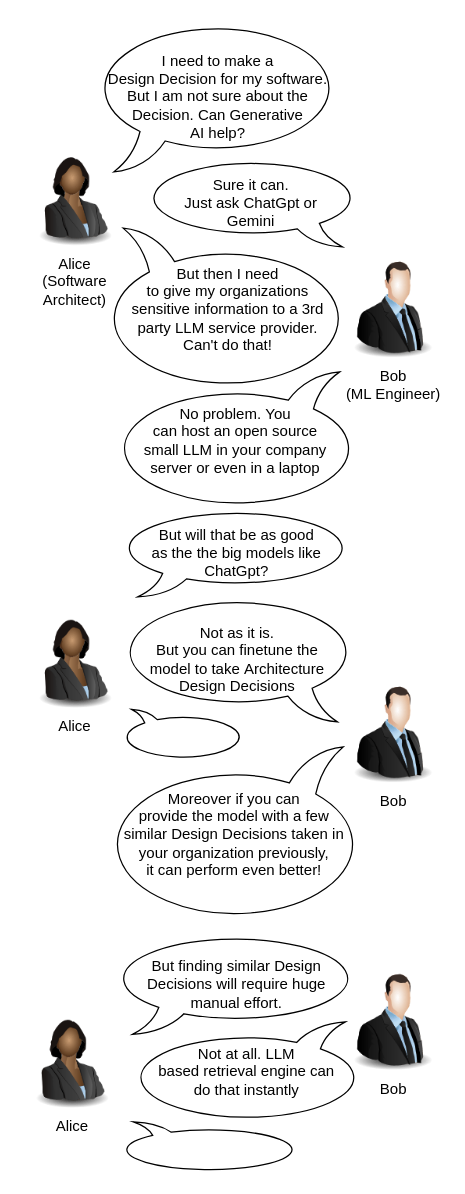
The diagram is 465 pixels wide and 1194 high, and some of its shapes have lost their labels. Each missing label, with the box of its shape:
Great! Lets make it!: (117, 1121, 302, 1172)
That's Good!: (120, 708, 246, 759)
